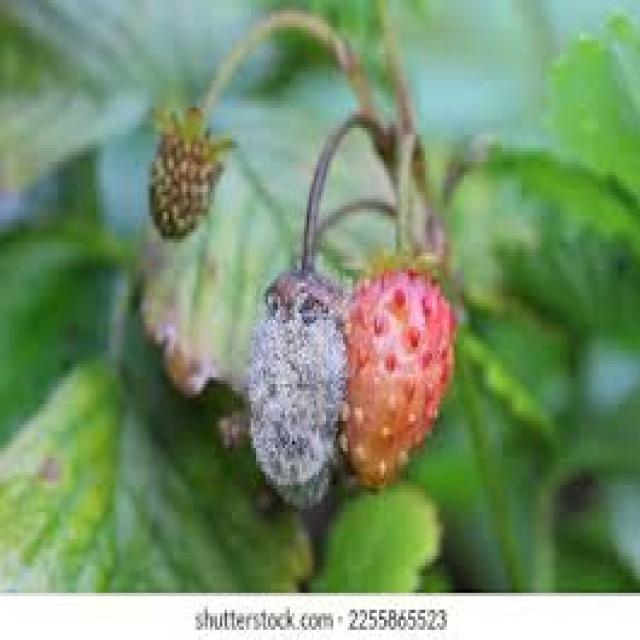Fruta sana: (348, 252, 455, 506)
Moho gris: (242, 254, 350, 508)
